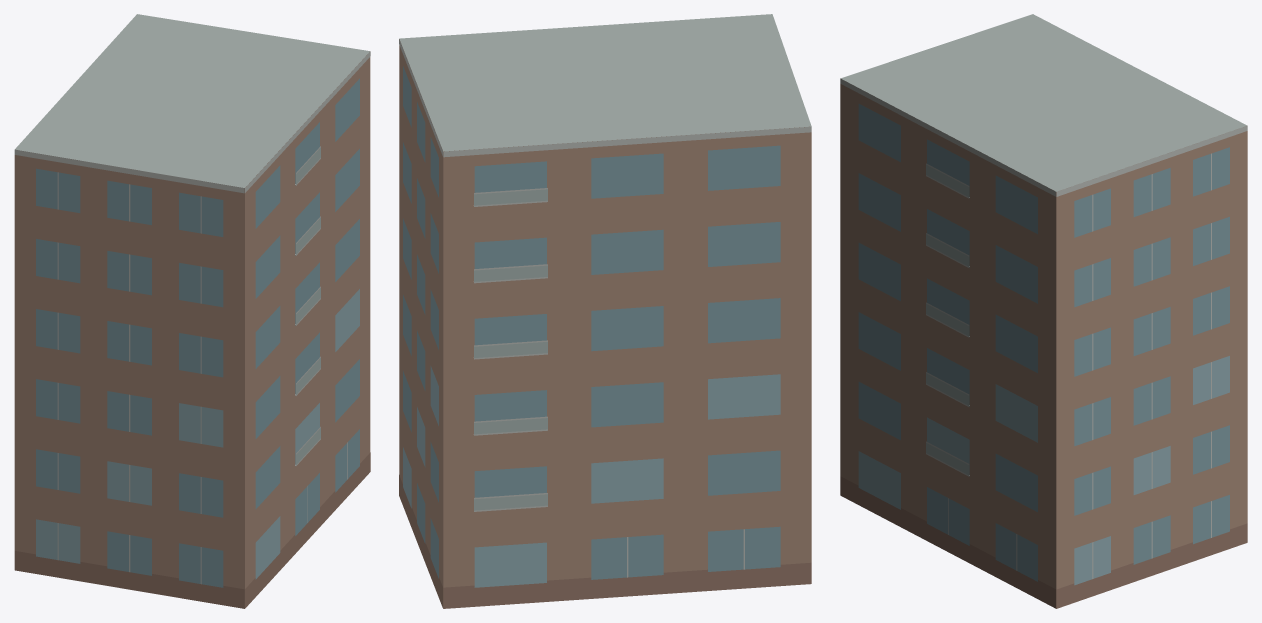
The model's file is survey-upis-32746871.glb.
The picture shows the model from 3 angles, left to right: view 1: azimuth 30°, elevation 25°; view 2: azimuth 150°, elevation 25°; view 3: azimuth 270°, elevation 25°; orthographic projection. The views are drawn at different scales.
Visible parts, largest first — view 1: survey-upis-32746871.tmp; view 2: survey-upis-32746871.tmp; view 3: survey-upis-32746871.tmp.
Part boxes in pixels (left/top/right/bottom): survey-upis-32746871.tmp: left=14, top=14, right=370, bottom=608; survey-upis-32746871.tmp: left=399, top=14, right=811, bottom=608; survey-upis-32746871.tmp: left=840, top=14, right=1247, bottom=608.
Bounding box in the file's own units: 17.75 × 19.4 × 17.17.
